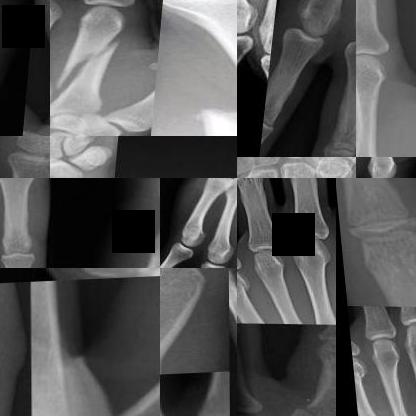fracture: (53, 29, 138, 90), (184, 88, 236, 136), (271, 400, 333, 415), (29, 149, 50, 177), (348, 357, 364, 389), (237, 273, 247, 312)
